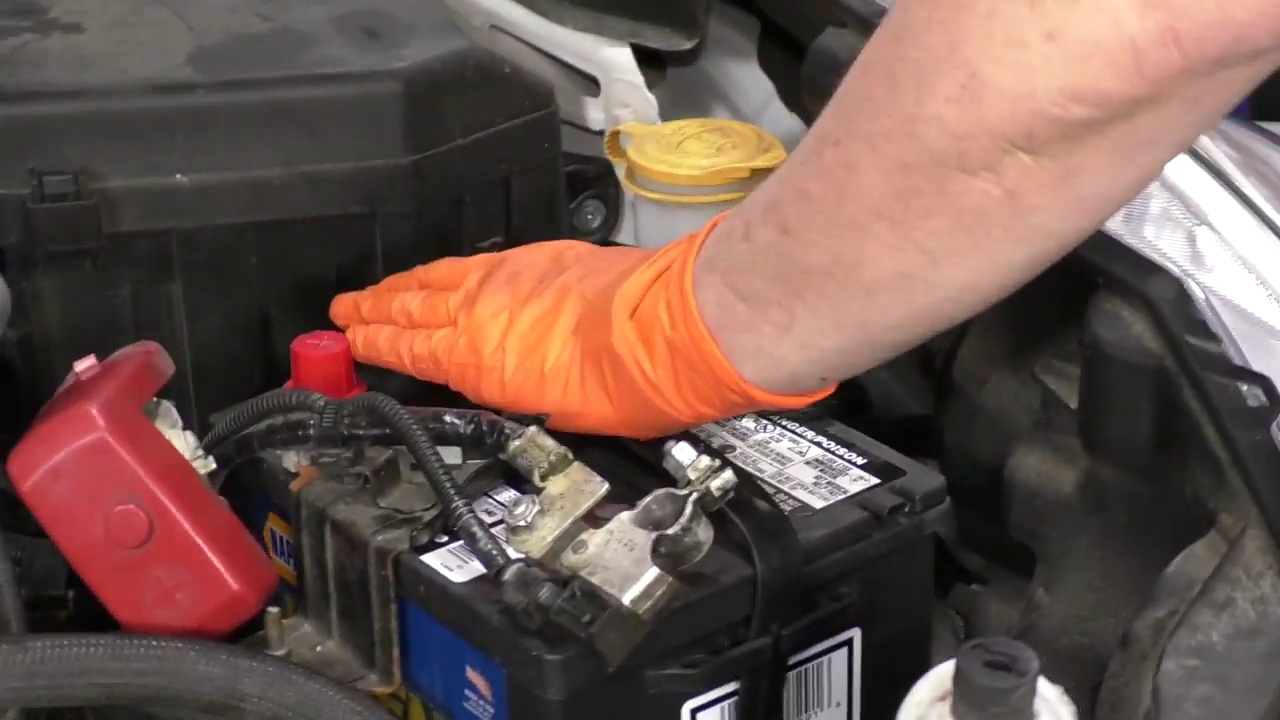battery: (206, 306, 941, 661)
